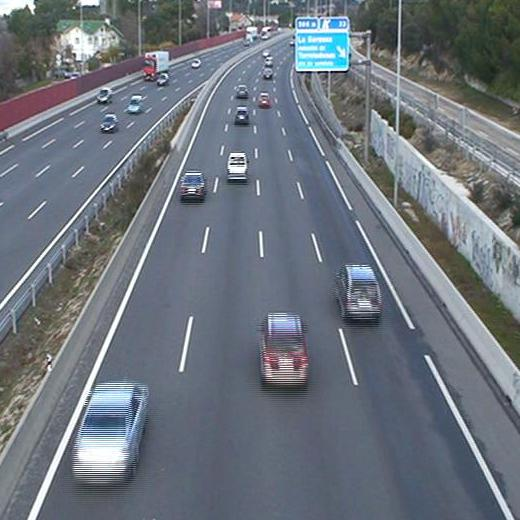car: (71, 379, 150, 485), (257, 311, 309, 389), (334, 263, 382, 323), (179, 168, 205, 201), (227, 150, 248, 183), (234, 106, 250, 125), (258, 92, 270, 108), (237, 83, 248, 99), (264, 67, 273, 79)
